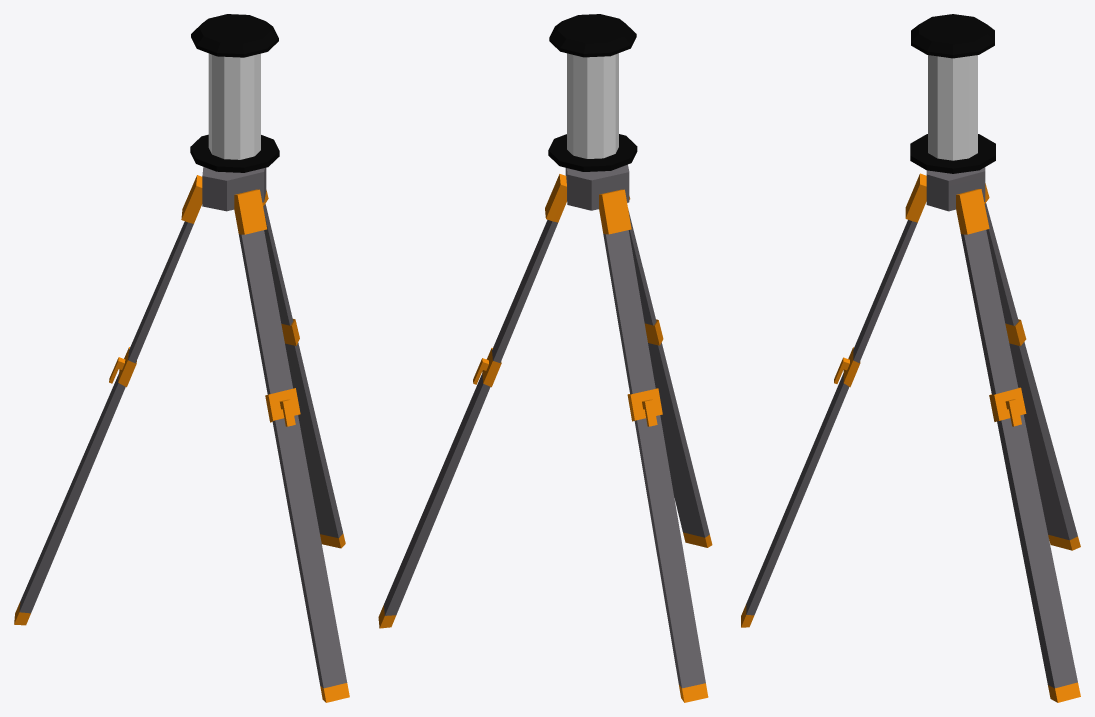
Rendered from Lamp.fbx.
3 renders of one model, left to right at view 1: azimuth 30°, elevation 25°; view 2: azimuth 150°, elevation 25°; view 3: azimuth 270°, elevation 25°, orthographic.
Parts seen in each view (by area): view 1: theodolite; view 2: theodolite; view 3: theodolite.
Boxes of the visible parts, bbox=[...] form: theodolite: bbox=[14, 14, 349, 702]; theodolite: bbox=[378, 14, 712, 702]; theodolite: bbox=[741, 14, 1080, 702].
Bounding box in the file's own units: 108 × 185 × 95.99.
